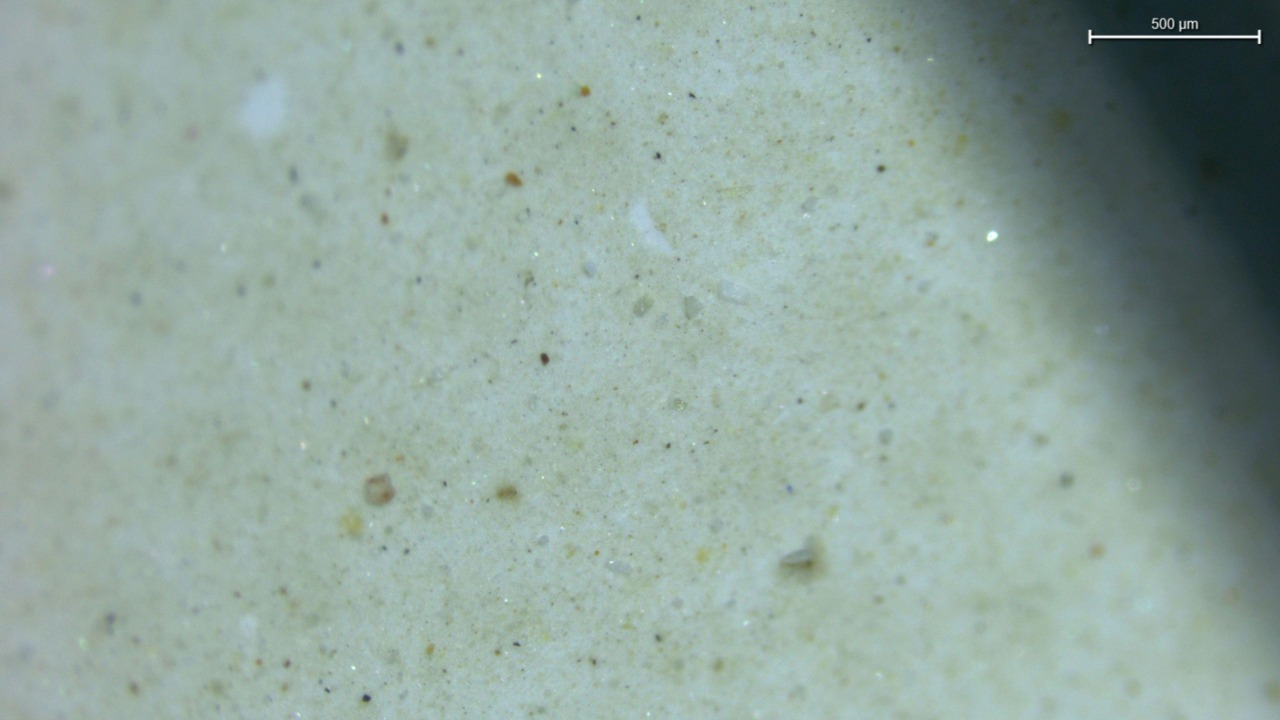microplastic_fragment: (717, 279, 748, 304), (684, 296, 703, 319)
